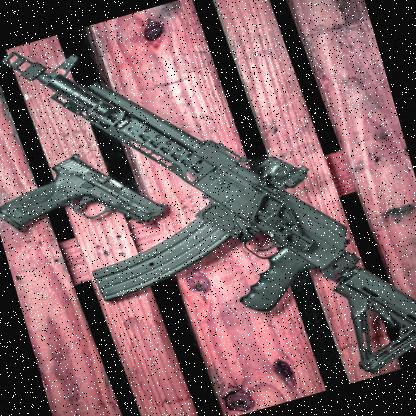rifle: (0, 0, 416, 416), (0, 123, 183, 274)
